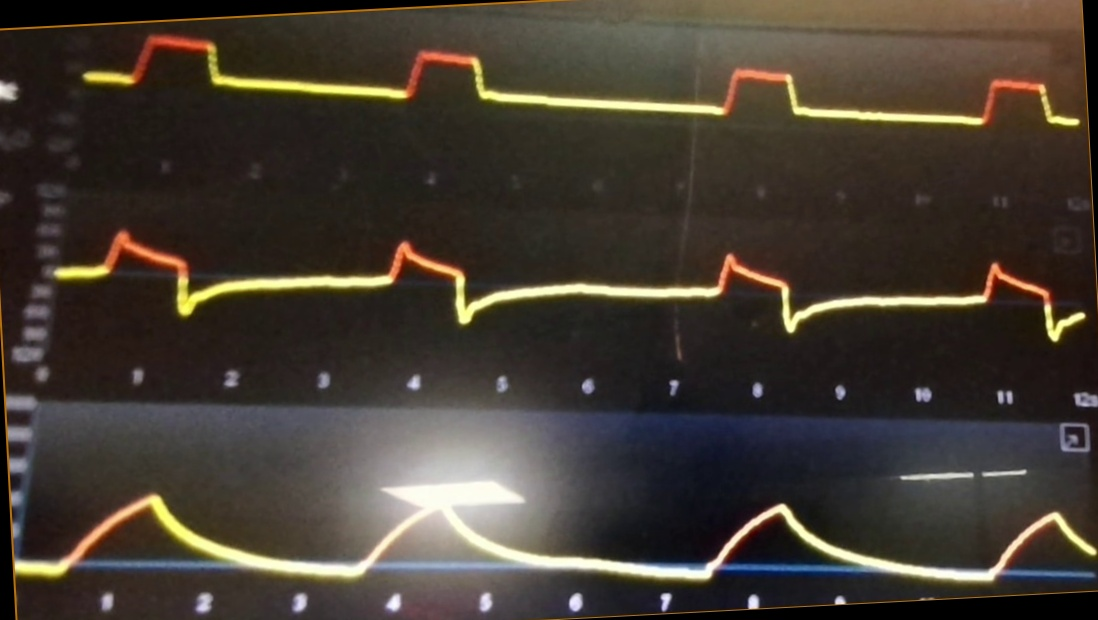Normal Flow: (58, 189, 1088, 352)
Normal Volume: (22, 457, 1098, 588)
